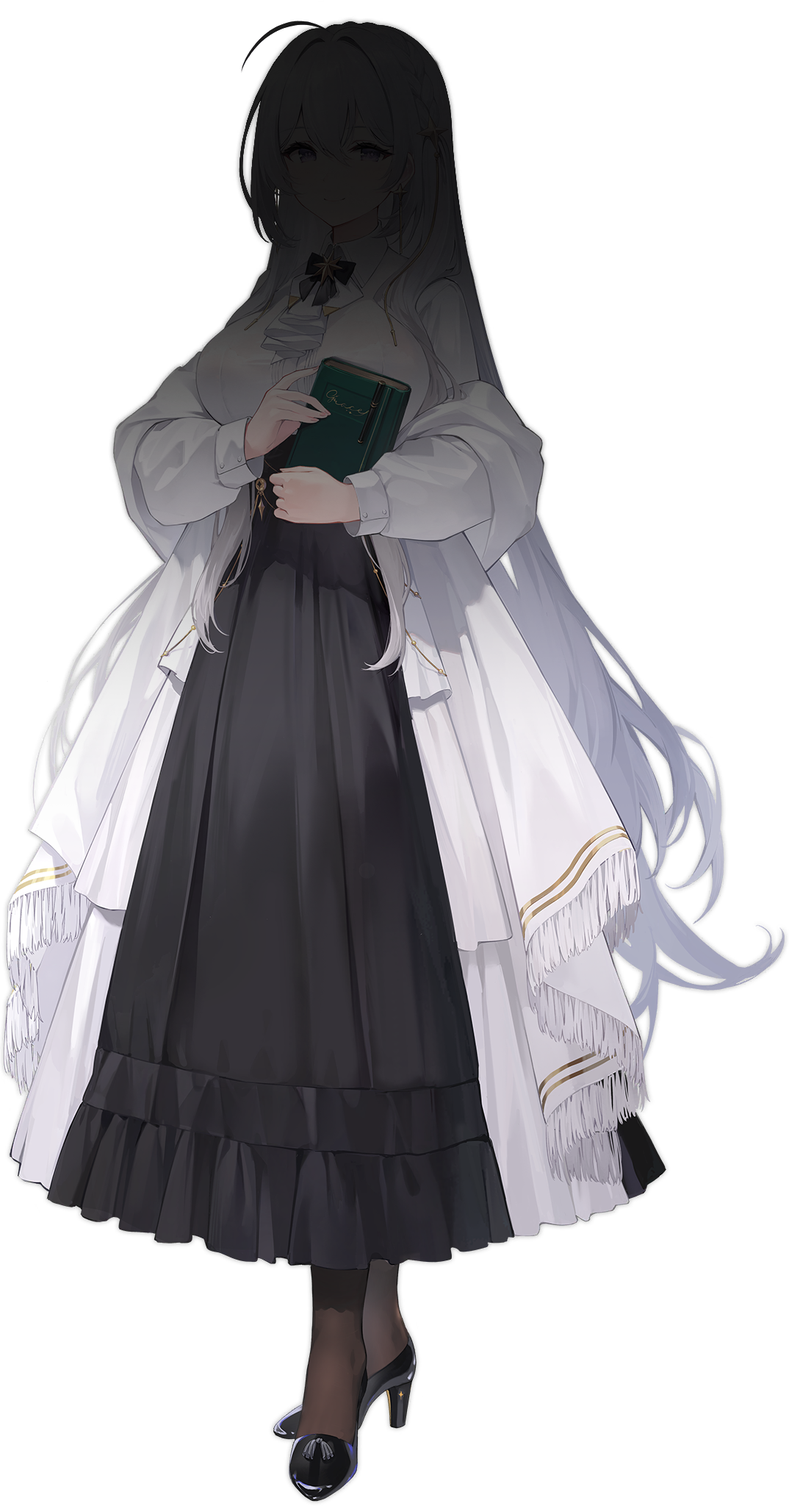person: (1, 3, 783, 1505)
